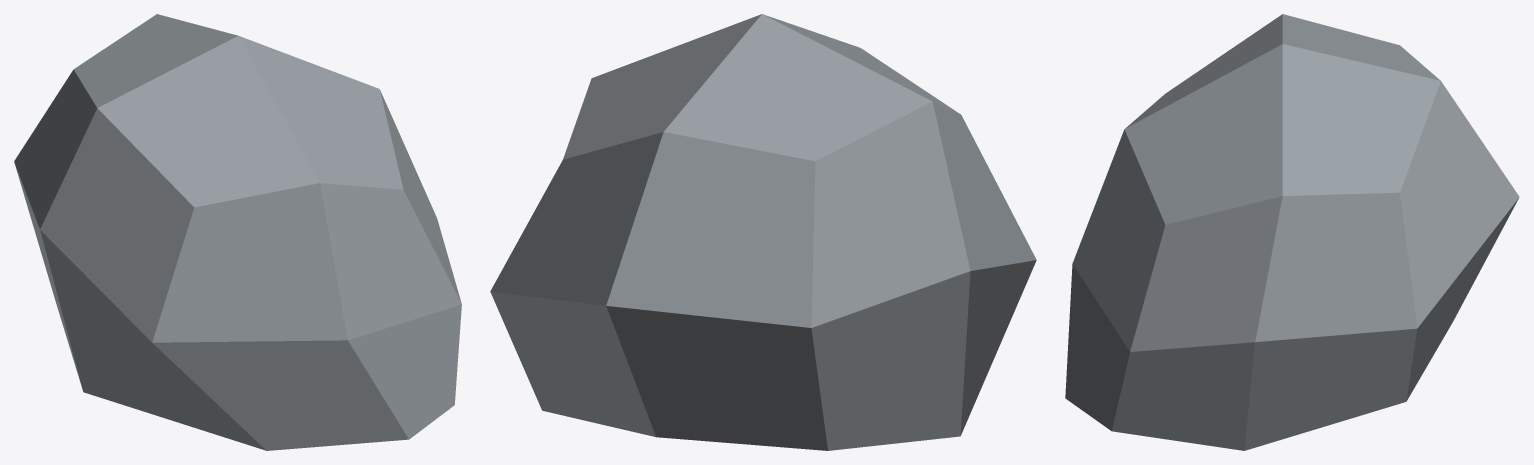
Rendered from maya_export_Boulder1_v2.fbx.
3 renders of one model, left to right at view 1: azimuth 30°, elevation 25°; view 2: azimuth 150°, elevation 25°; view 3: azimuth 270°, elevation 25°, orthographic. The views are drawn at different scales.
Parts seen in each view (by area): view 1: Boulder1_v2; view 2: Boulder1_v2; view 3: Boulder1_v2.
Boxes of the visible parts, bbox=[...] form: Boulder1_v2: bbox=[14, 14, 461, 450]; Boulder1_v2: bbox=[490, 14, 1036, 450]; Boulder1_v2: bbox=[1065, 14, 1519, 450].
Size of the model in its own units: 10.94 by 9.76 by 11.98.
1 material, 1 textured.
